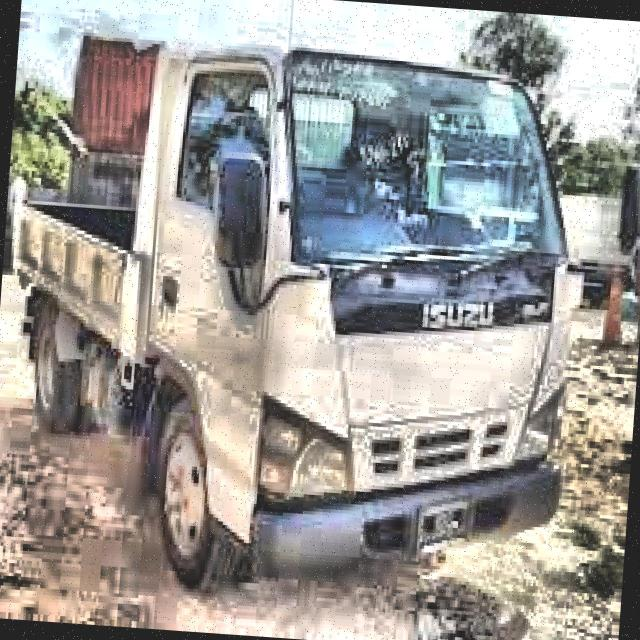dump_truck: (0, 18, 610, 623)
